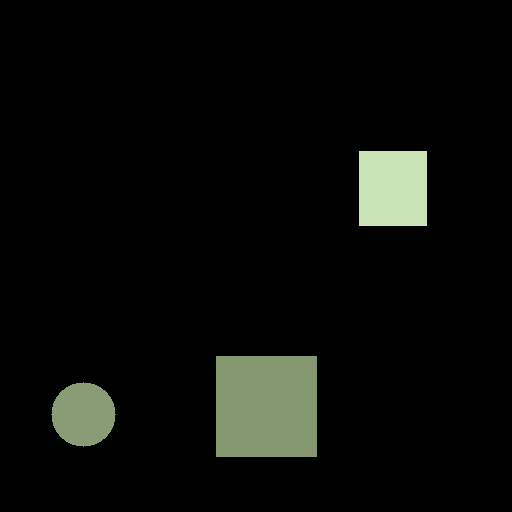circle: (51, 382, 115, 446)
square: (216, 356, 316, 456), (359, 151, 426, 225)
